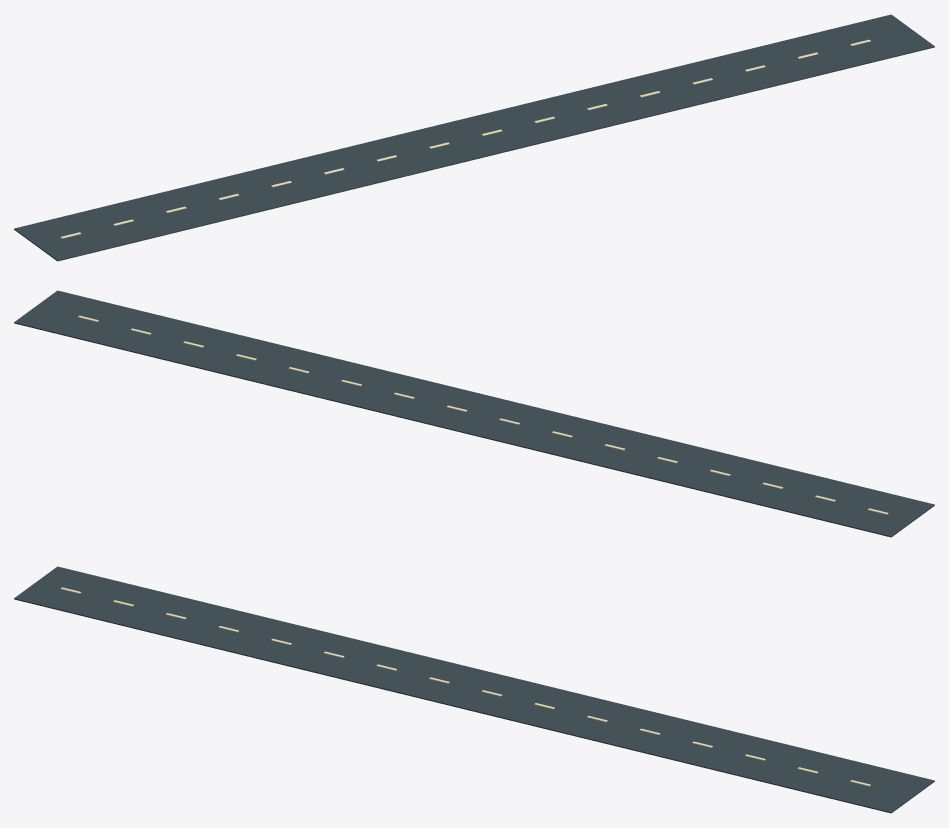
Rendered from road-straight.glb.
3 views of the same model, one above another, from view 1: azimuth 30°, elevation 25°; view 2: azimuth 150°, elevation 25°; view 3: azimuth 330°, elevation 25° (orthographic).
Visible parts, largest first — view 1: asphalt; view 2: asphalt; view 3: asphalt.
Part boxes in pixels (x1=…): asphalt: x1=14, y1=14, x2=934, y2=261; asphalt: x1=14, y1=290, x2=934, y2=537; asphalt: x1=14, y1=566, x2=934, y2=813.
Size of the model in its own units: 50 by 0.105 by 4.3.
